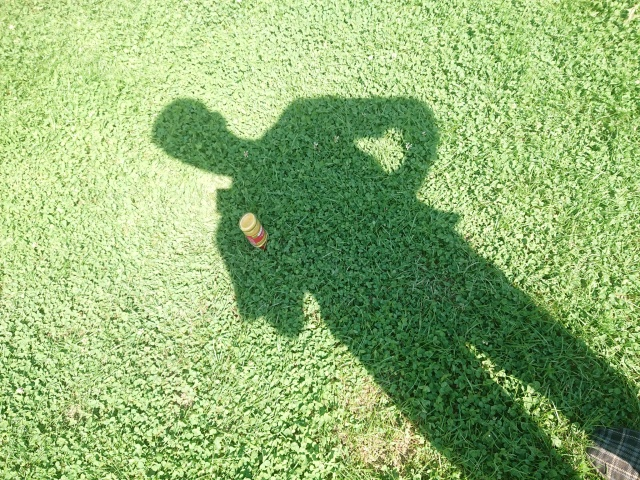Kotanyi Curry Spices Mix 70g: (237, 210, 271, 251)
